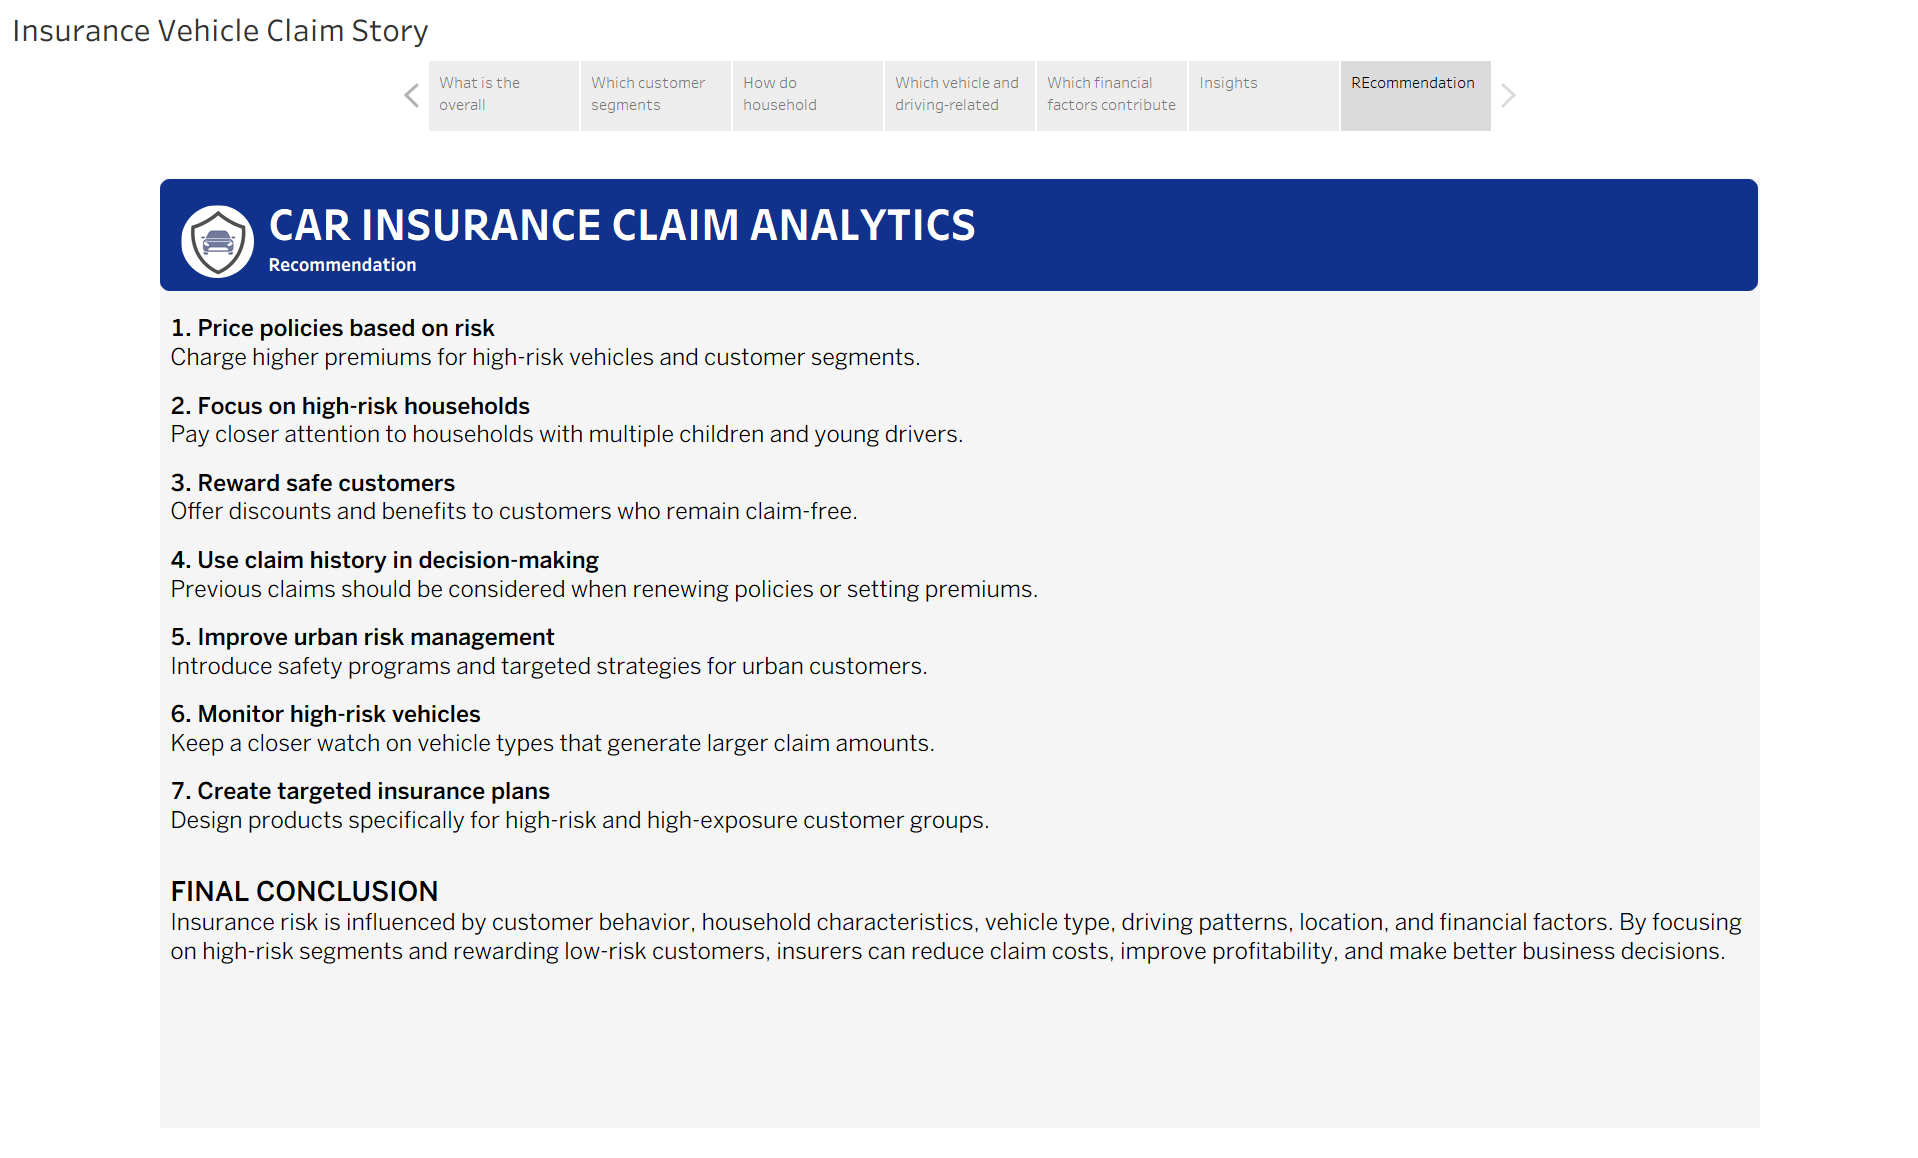

Layout of this report page (visuals, bound fields, positions):
{"tool":"tableau","page":{"name":"Recommendations","canvas":[1600,950],"ordinal":5},"visuals":[{"type":"text","box":[105,4,1075,105]},{"type":"image","param":"C:/Users/Abhi/Downloads/car-protection-shield-icon-vector-22266842.jpg","box":[17,23,81,81]}]}

Visuals, with their boxes on the page's 1600x950 design canvas (x1, y1, x2, y2). These are canvas units, not pixel positions in the 1918x1158 screenshot, which may show the page scaled, cropped or inside an application window:
text: (left=105, top=4, right=1180, bottom=109)
image: (left=17, top=23, right=98, bottom=104)
